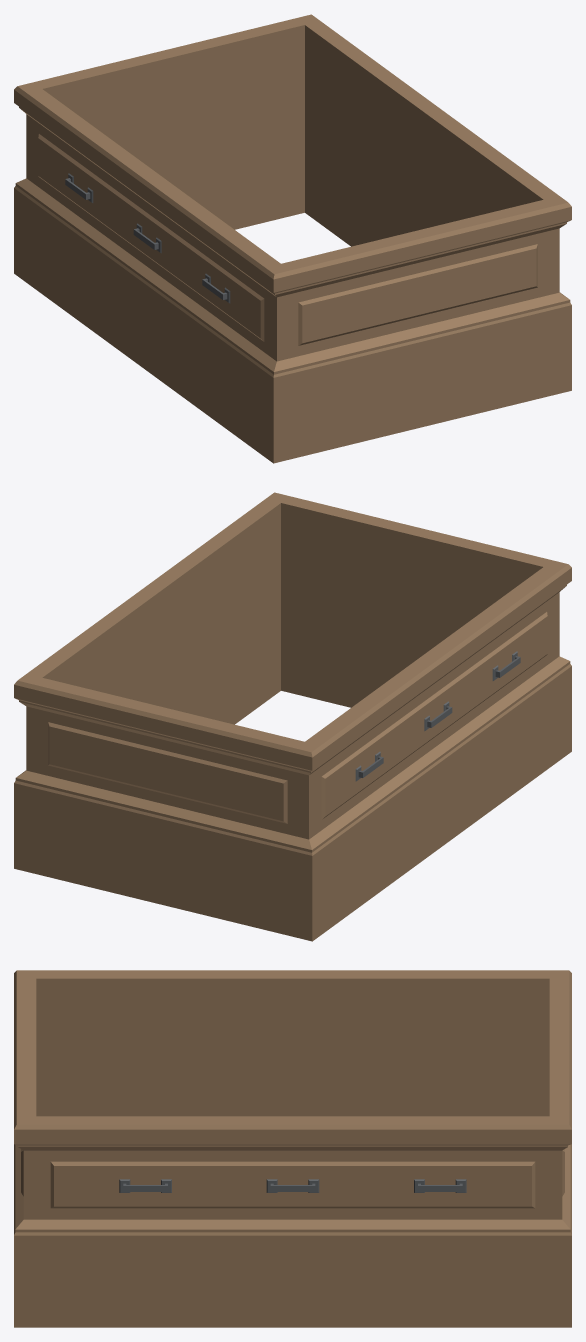
File: coffin.glb
The picture shows the model from 3 angles, top to bottom: view 1: azimuth 30°, elevation 25°; view 2: azimuth 150°, elevation 25°; view 3: azimuth 270°, elevation 25°; orthographic projection. The views are drawn at different scales.
Visible parts, largest first — view 1: coffin; view 2: coffin; view 3: coffin.
Boxes of the visible parts, <box> form: coffin: <box>14,14,571,463</box>; coffin: <box>14,492,571,941</box>; coffin: <box>14,970,571,1327</box>.
Bounding box in the file's own units: 1.66 × 0.998 × 2.5.
